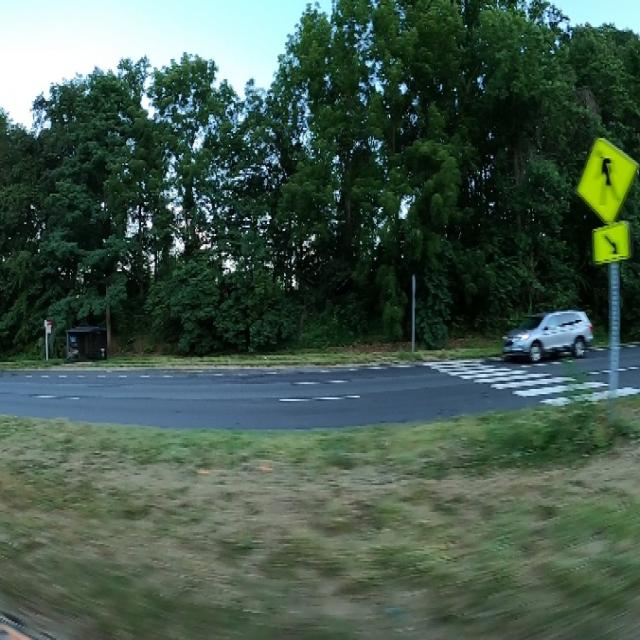cars: (502, 307, 593, 368)
